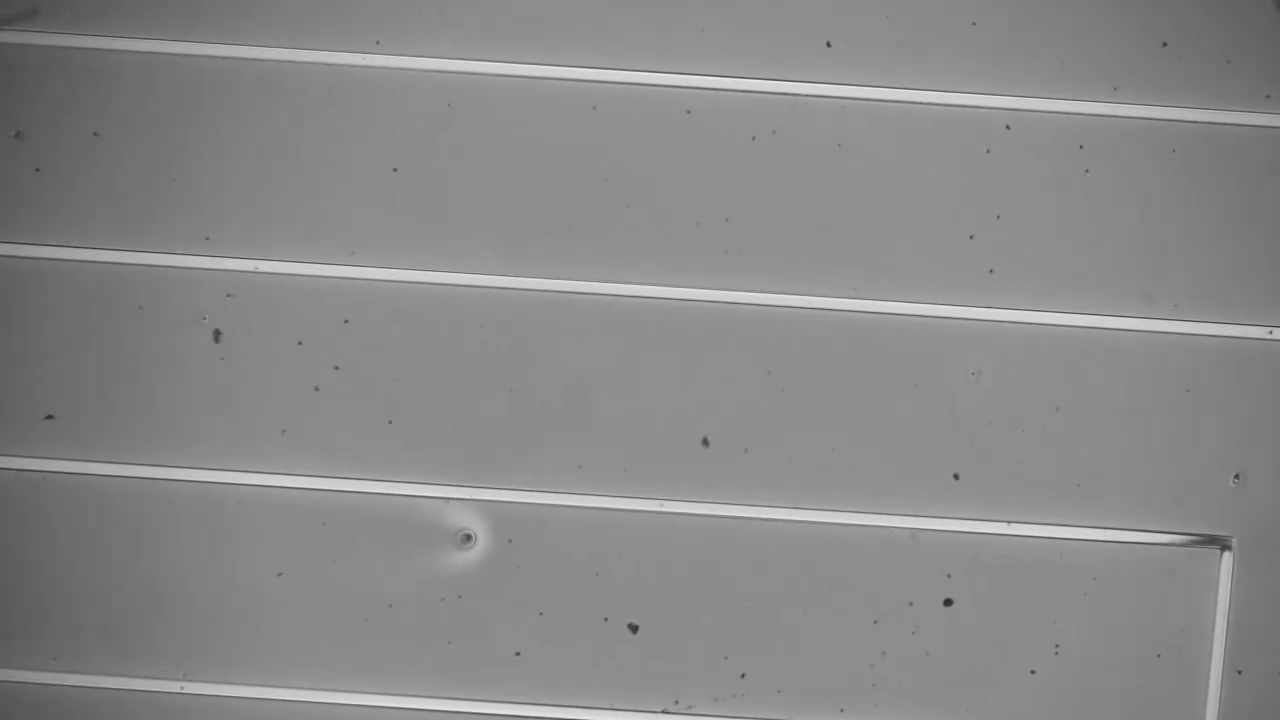gray_line: (1169, 521, 1248, 560)
